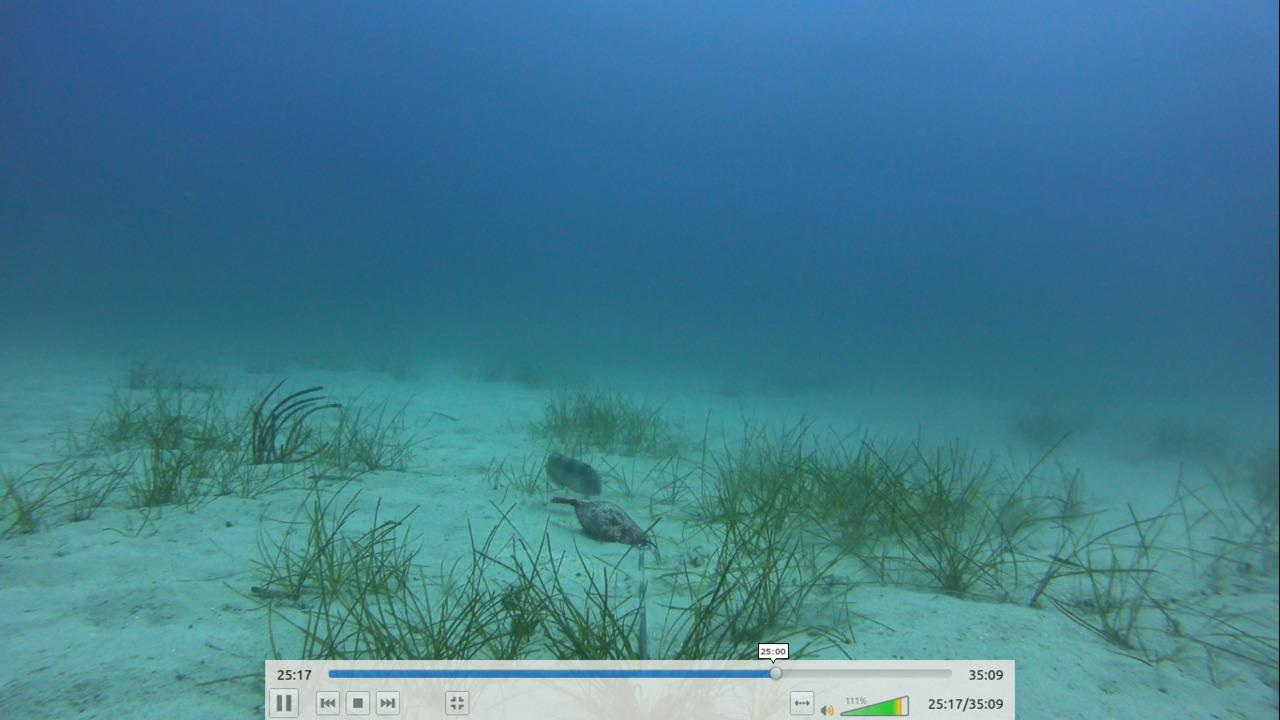raor: (541, 445, 612, 499)
